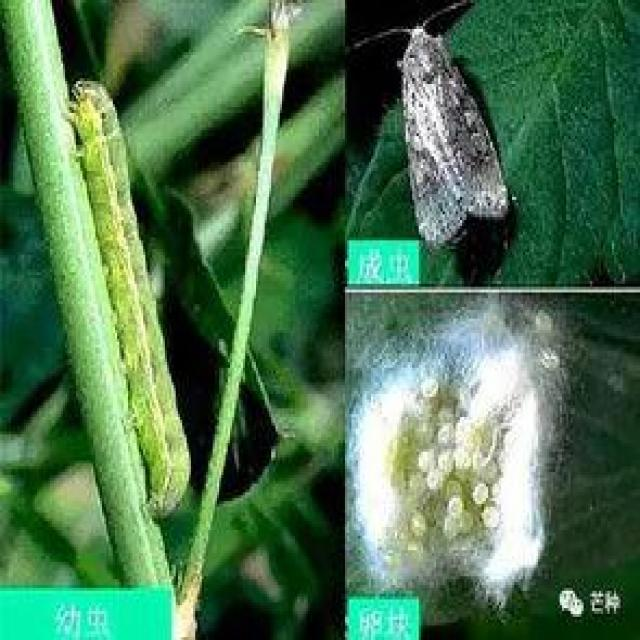BeetArmyWorm-Adult-: (376, 11, 524, 251)
BeetArmyWorm-Larva-: (64, 70, 207, 528)
